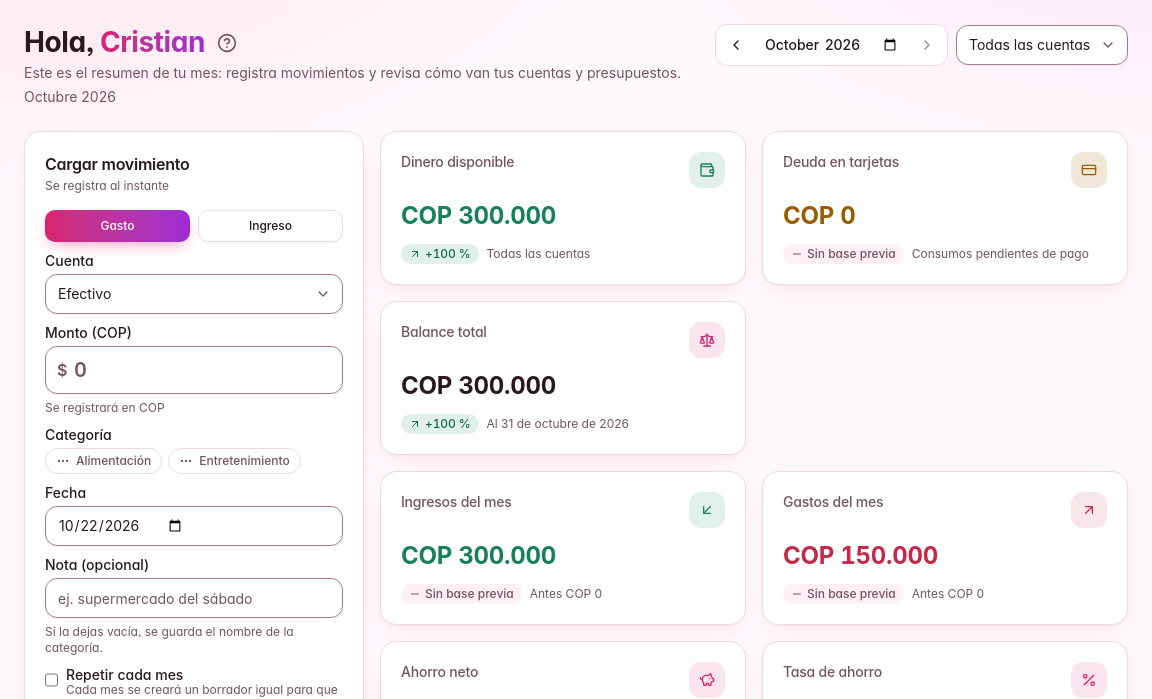
Scenario: Dashboard — cabecera y ayuda (M14) › el mes y la cuenta están en la cabecera y siguen filtrando toda la vista
Expected: the field named "Mes" is shown, [756, 29, 907, 61]
Select "Ahorros" in the dropdown named "Cuenta": (1042, 45) [956, 25, 1128, 65]
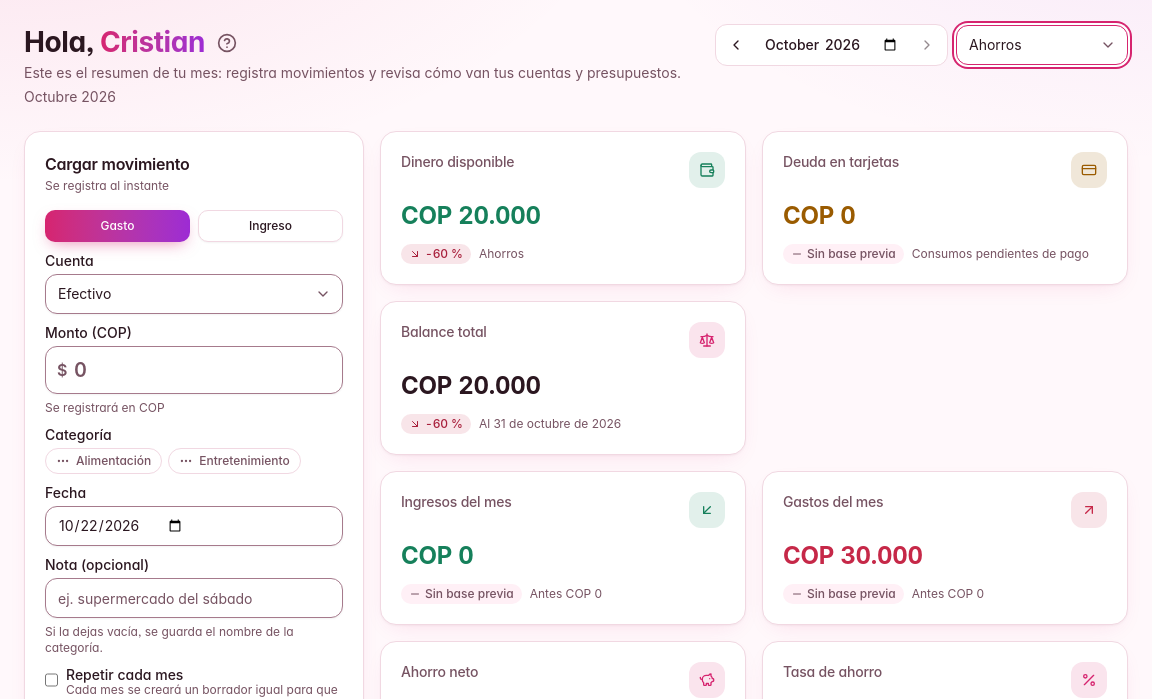
Result: the text "COP 30.000" is shown at [783, 541, 923, 570]
